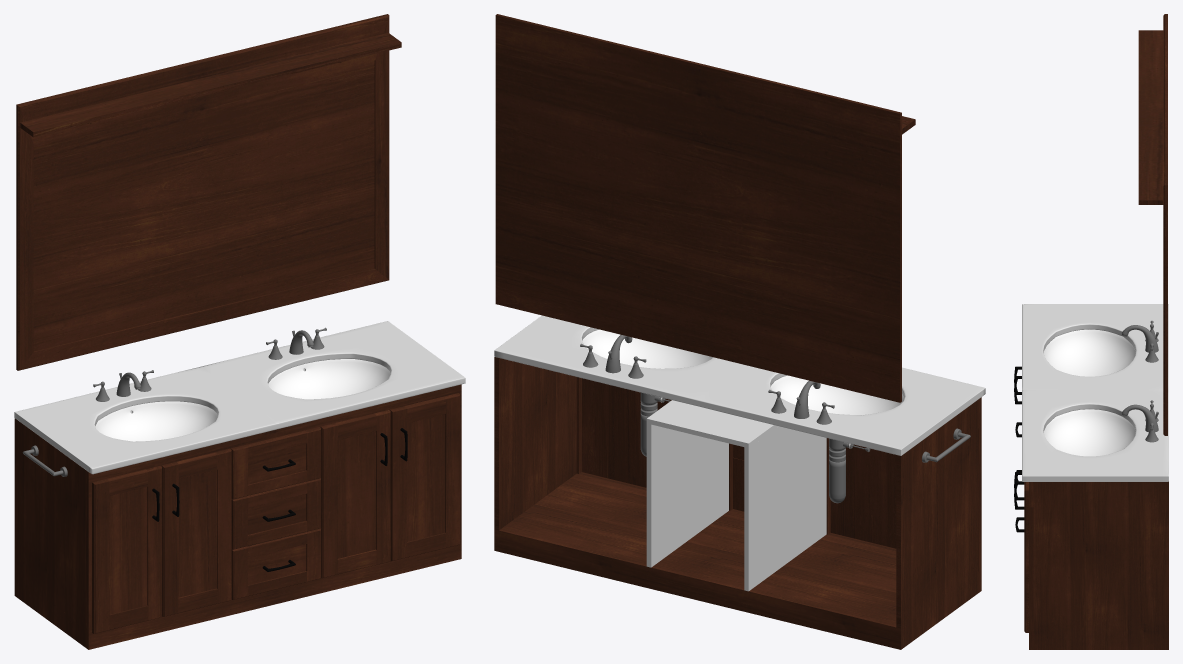
Rendered from double_vanity.glb.
3 views of the same model, side by side, from view 1: azimuth 30°, elevation 25°; view 2: azimuth 150°, elevation 25°; view 3: azimuth 270°, elevation 25° (orthographic). The views are drawn at different scales.
Visible parts, largest first — view 1: double_vanity; view 2: double_vanity; view 3: double_vanity.
Part boxes in pixels (x1,y1,x2,y2): double_vanity: [14, 14, 465, 649]; double_vanity: [494, 14, 985, 649]; double_vanity: [1014, 14, 1168, 649].
Bounding box in the file's own units: 1.85 × 2.25 × 0.6808.
10 materials, 3 textured.
